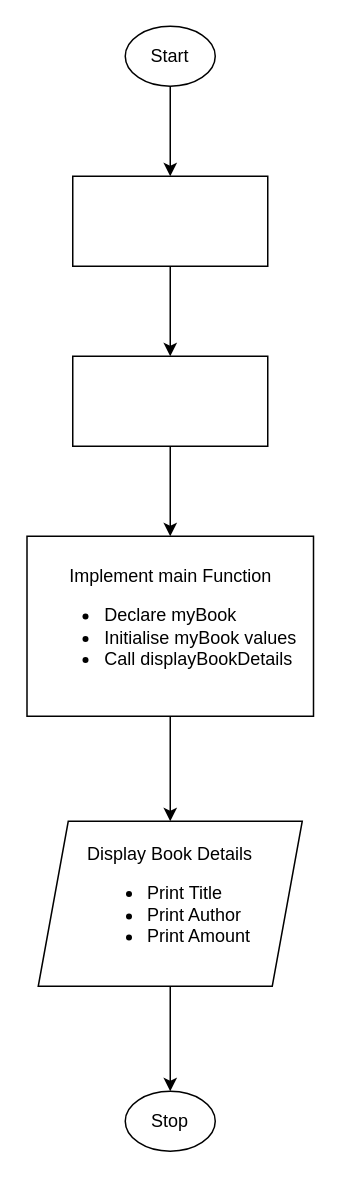
This 339x1178 diagram has some shape labels left out. Each missing label, with the centre of its shape:
Declare displayBookDetails Function: the point at 169,400
Define BookDetail Structure: the point at 169,220
